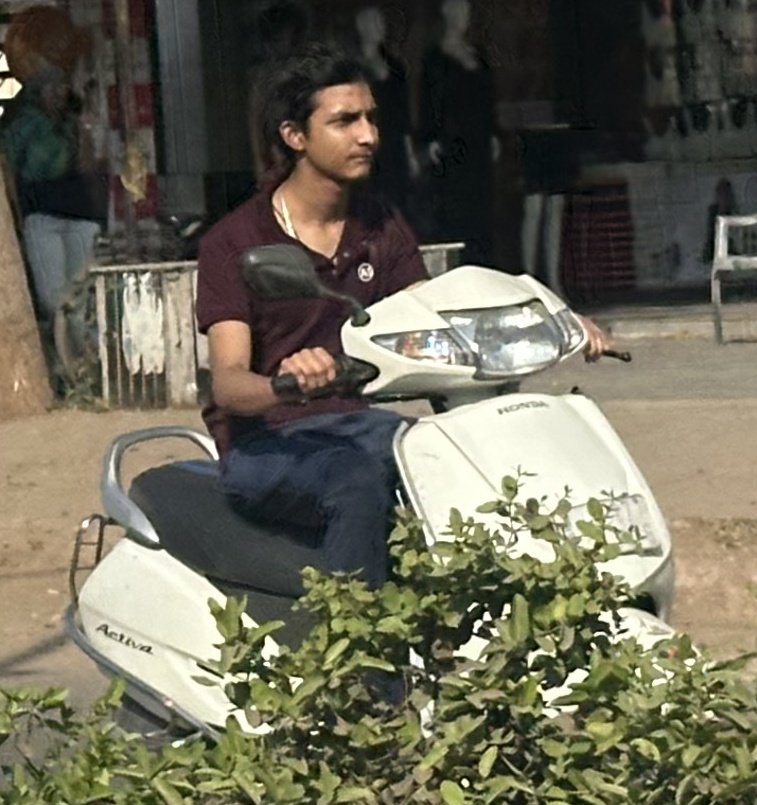BikeWithRider: (48, 42, 722, 771)
NoHelmet: (252, 42, 399, 200)
